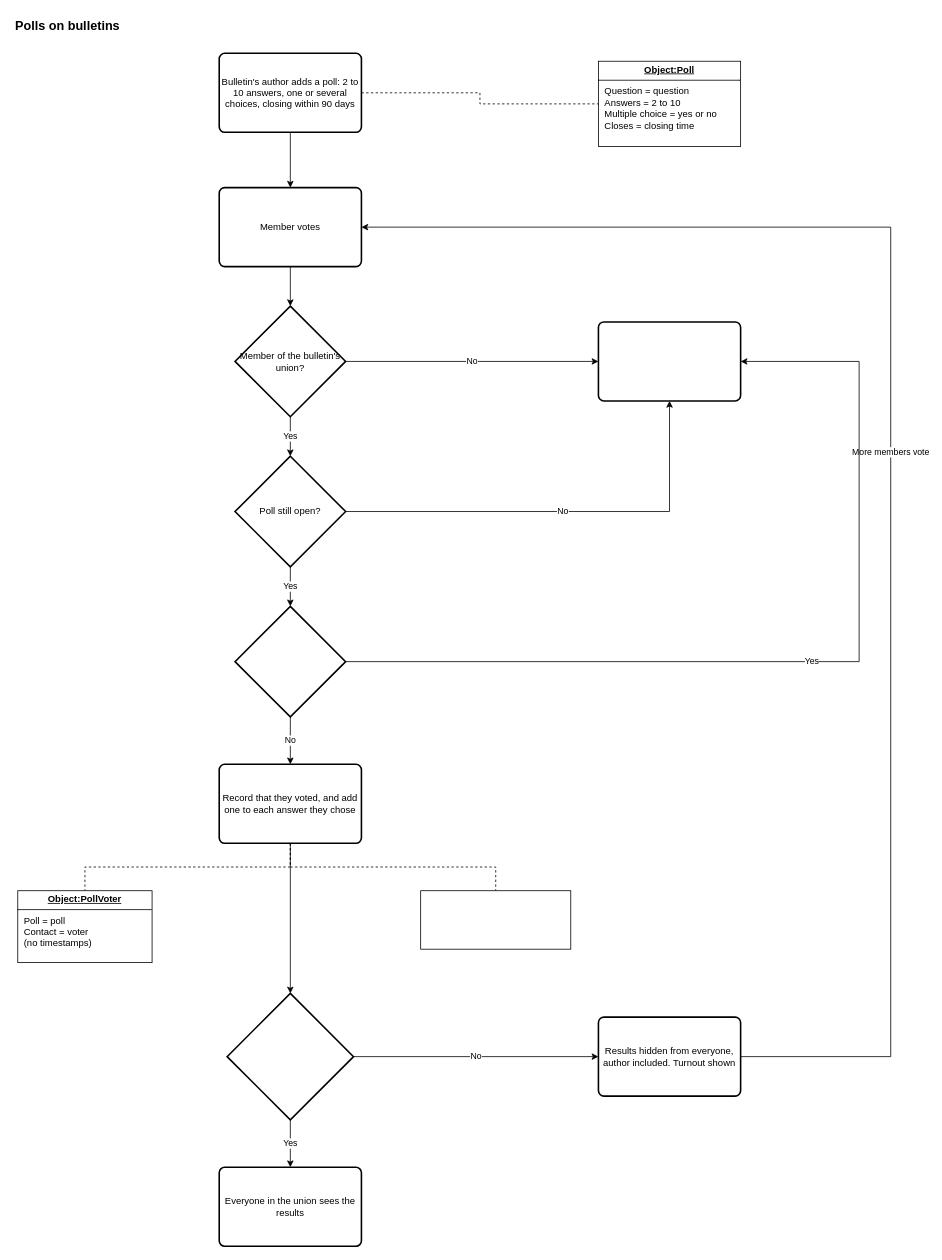
Some shapes in this 942 by 1260 pixel diagram are drawn without their labels. The box of each missing label's shape, as (x1, y1, x2, y2) in pixels:
Already voted?: (234, 605, 346, 717)
Closing time passed, or the author closed it early?: (226, 992, 354, 1120)
Object:PollAnswer Vote count = count + 1 (updated_at not touched): (420, 890, 571, 949)
Vote refused: (597, 321, 741, 401)
